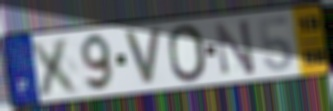5: (257, 14, 294, 73)
9: (76, 32, 116, 94)
N: (212, 17, 258, 77)
O: (166, 22, 210, 84)
V: (121, 27, 164, 87)
X: (27, 34, 84, 98)
